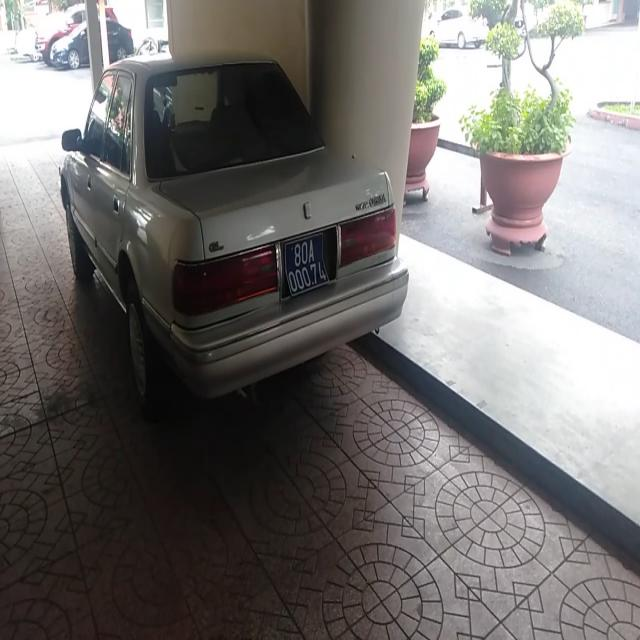bien_xanh: (282, 227, 334, 301)
